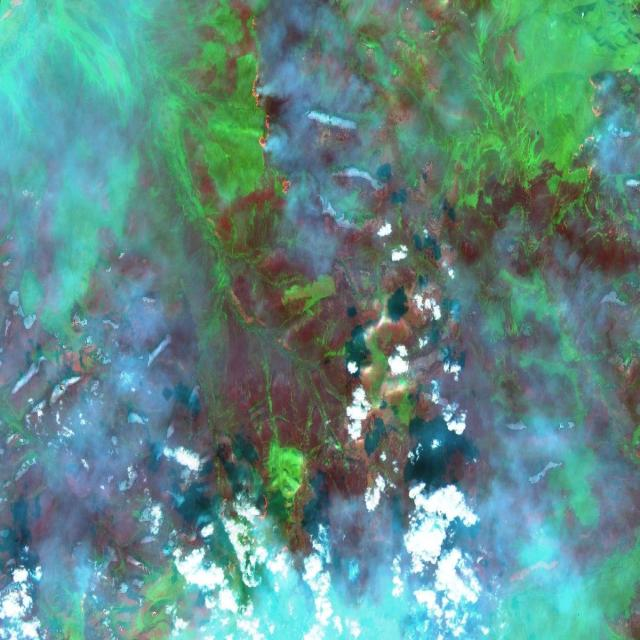fire: (230, 0, 310, 212), (550, 56, 629, 230)
